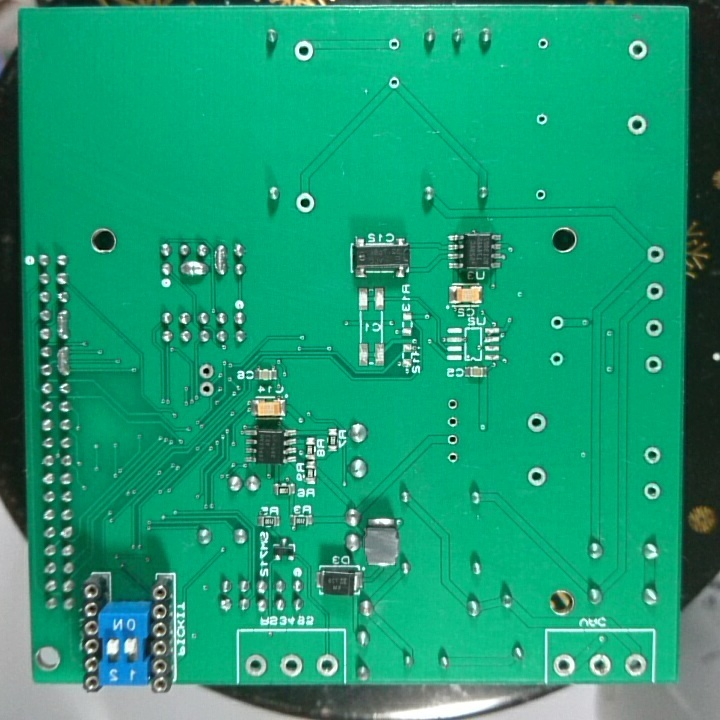F: (622, 111, 651, 139), (551, 651, 579, 679), (243, 652, 271, 680), (277, 652, 306, 679), (292, 189, 319, 217), (621, 652, 648, 680), (314, 650, 341, 678), (625, 36, 651, 63), (588, 652, 614, 679), (645, 242, 667, 270), (642, 443, 665, 469), (644, 282, 667, 306), (639, 480, 663, 503), (293, 38, 315, 63), (526, 464, 548, 489), (642, 317, 665, 339), (525, 412, 550, 432), (644, 354, 665, 375), (385, 71, 405, 93), (534, 34, 553, 56), (547, 313, 567, 333), (196, 380, 216, 399), (197, 362, 217, 381), (531, 186, 549, 205), (385, 35, 405, 52), (441, 449, 461, 466), (548, 350, 565, 370), (443, 430, 461, 448), (533, 111, 550, 129), (442, 414, 462, 429), (445, 396, 462, 412)
P: (176, 259, 210, 279), (54, 307, 71, 342), (54, 345, 72, 378), (212, 241, 227, 278)
